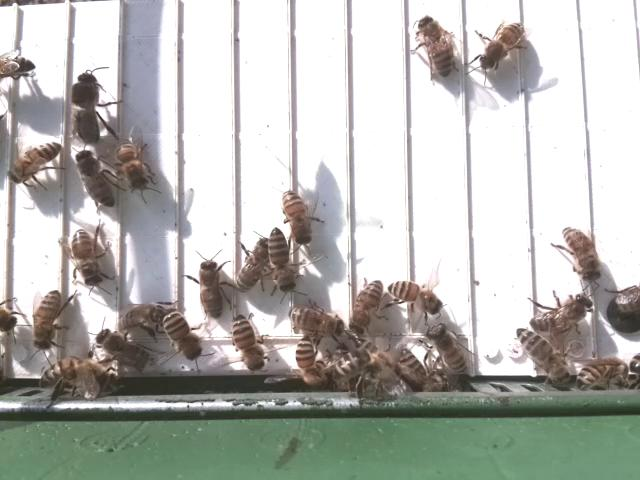Drone: (67, 69, 105, 148)
Worker: (413, 12, 460, 83), (526, 291, 597, 337), (558, 221, 605, 287), (513, 327, 569, 382), (473, 19, 529, 73), (65, 224, 110, 291), (6, 137, 65, 186), (74, 150, 118, 211), (227, 311, 270, 373), (264, 227, 302, 296), (28, 286, 67, 353), (112, 134, 152, 198), (347, 277, 387, 341), (161, 305, 205, 363), (37, 356, 107, 391), (232, 236, 272, 296), (384, 275, 446, 313), (193, 255, 227, 323), (281, 187, 319, 247), (286, 302, 348, 336), (293, 335, 327, 394), (574, 354, 628, 391)
